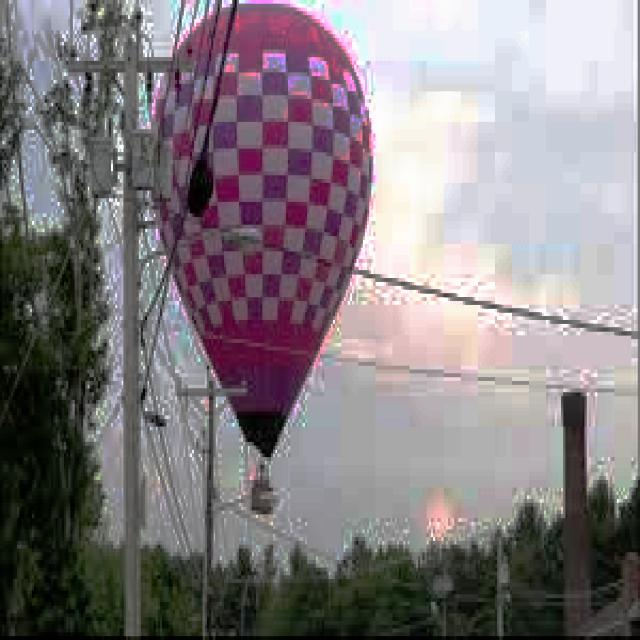obstruction: (154, 0, 371, 510)
poles: (68, 42, 169, 632), (175, 366, 245, 636)
wires: (141, 240, 297, 549), (350, 263, 638, 339), (139, 0, 237, 145), (320, 347, 559, 389), (201, 556, 209, 632)
